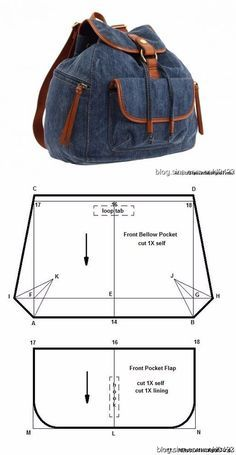cuero: (32, 12, 205, 147)
